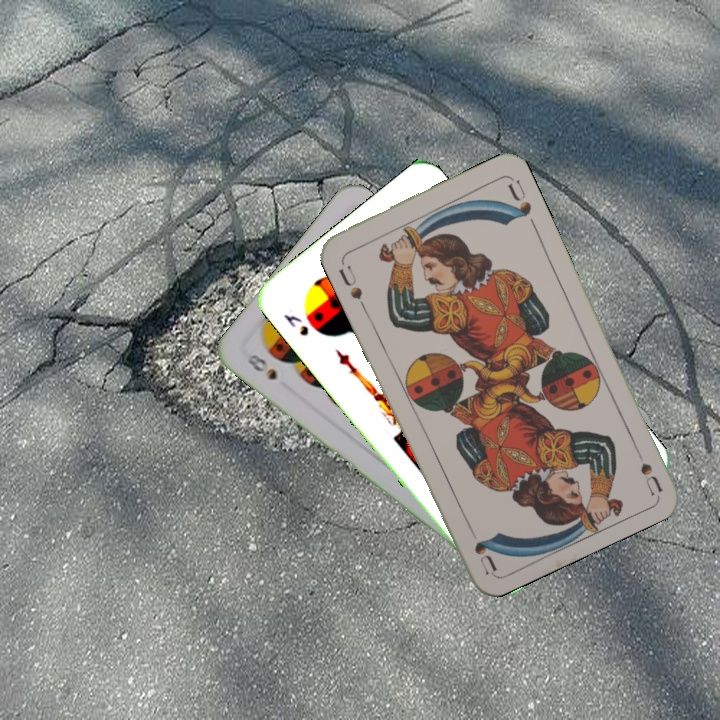S8: (242, 349, 280, 383)
SK: (279, 310, 312, 339)
SU: (629, 439, 665, 497), (334, 261, 365, 302)
